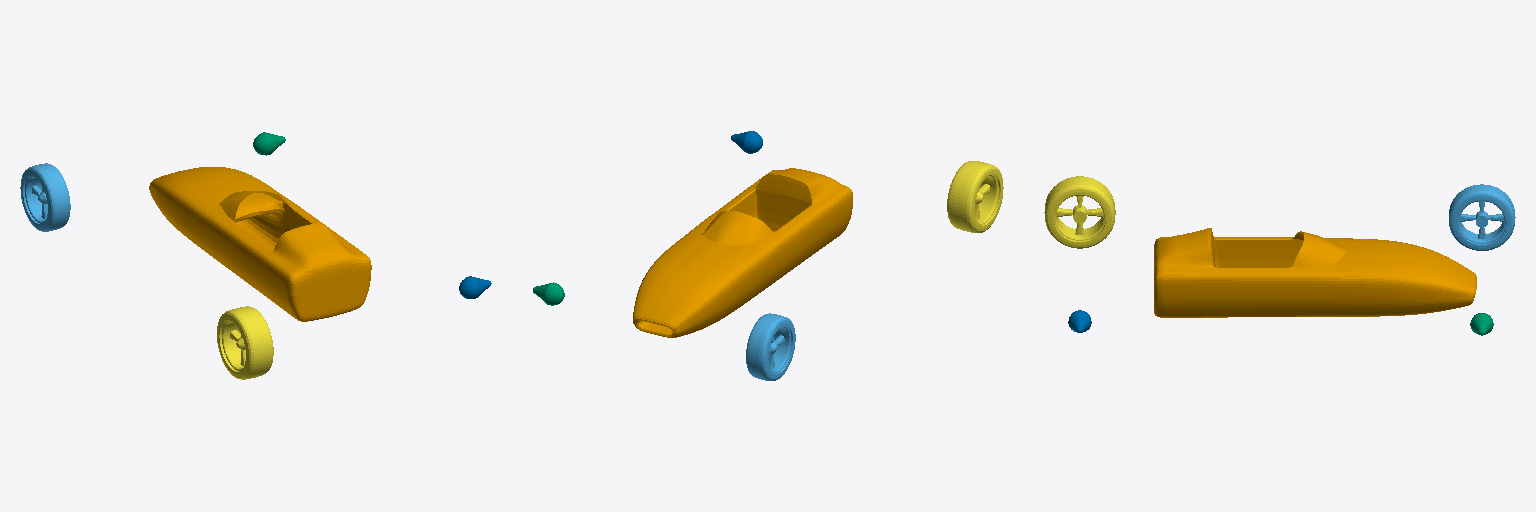
URDF robot description (formular_car):
<?xml version="1.0" encoding="UTF-8"?>
<robot name="formular_car">
    <!--* Body Link  -->
    <link name="body">
        <inertial>
            <mass value="600.0"/>
            <inertia ixx="1.0" ixy="0.0" ixz="0.0" iyy="1.0" iyz="0.0" izz="1.0"/>
        </inertial>
        <visual>
            <geometry>
                <mesh filename="body.stl" scale="1.0"/>
            </geometry>
        </visual>
        <collision>
            <geometry>
                <mesh filename="body.stl" scale="1.0"/>
            </geometry>
        </collision>
    </link>

    <!--* Supension Link -->
    <link name="susp_fl">
        <inertial>
            <mass value="1e-5"/>
            <inertia ixx="1e-6" ixy="0.0" ixz="0.0" iyy="1e-6" iyz="0.0" izz="1e-6"/>
        </inertial>
    </link>

    <link name="susp_fr">
        <inertial>
            <mass value="1e-5"/>
            <inertia ixx="1e-6" ixy="0.0" ixz="0.0" iyy="1e-6" iyz="0.0" izz="1e-6"/>
        </inertial>
    </link>

    <link name="susp_rl">
        <inertial>
            <mass value="1e-5"/>
            <inertia ixx="1e-6" ixy="0.0" ixz="0.0" iyy="1e-6" iyz="0.0" izz="1e-6"/>
        </inertial>
    </link>

    <link name="susp_rr">
        <inertial>
            <mass value="1e-5"/>
            <inertia ixx="1e-6" ixy="0.0" ixz="0.0" iyy="1e-6" iyz="0.0" izz="1e-6"/>
        </inertial>
    </link>

    <!--* Steering link -->
    <link name="steering_fl">
        <inertial>
            <mass value="1e-5"/>
            <inertia ixx="1e-6" ixy="0.0" ixz="0.0" iyy="1e-6" iyz="0.0" izz="1e-6"/>
        </inertial>
    </link>

    <link name="steering_fr">
        <inertial>
            <mass value="1e-5"/>
            <inertia ixx="1e-6" ixy="0.0" ixz="0.0" iyy="1e-6" iyz="0.0" izz="1e-6"/>
        </inertial>
    </link>

    <link name="steering_rl">
        <inertial>
            <mass value="1e-5"/>
            <inertia ixx="1e-6" ixy="0.0" ixz="0.0" iyy="1e-6" iyz="0.0" izz="1e-6"/>
        </inertial>
    </link>

    <link name="steering_rr">
        <inertial>
            <mass value="1e-5"/>
            <inertia ixx="1e-6" ixy="0.0" ixz="0.0" iyy="1e-6" iyz="0.0" izz="1e-6"/>
        </inertial>
    </link>
    
    <!--* Wheel Link -->
    <link name="wheel_fl">
        <inertial>
            <mass value="10.0"/>
            <inertia ixx="1.0" ixy="0.0" ixz="0.0" iyy="1.0" iyz="0.0" izz="1.0"/>
        </inertial>
        <visual>
            <geometry>
                <mesh filename="wheel_FL.stl" scale="1.0"/>
            </geometry>
        </visual>
        <collision>
            <geometry>
                <mesh filename="wheel_FL.stl" scale="1.0"/>
            </geometry>
        </collision>
    </link>

    <link name="wheel_fr">
        <inertial>
            <mass value="10.0"/>
            <inertia ixx="1.0" ixy="0.0" ixz="0.0" iyy="1.0" iyz="0.0" izz="1.0"/>
        </inertial>
        <visual>
            <geometry>
                <mesh filename="wheel_FR.stl" scale="1.0"/>
            </geometry>
        </visual>
        <collision>
            <geometry>
                <mesh filename="wheel_FR.stl" scale="1.0"/>
            </geometry>
        </collision>
    </link>

    <link name="wheel_rl">
        <inertial>
            <mass value="10.0"/>
            <inertia ixx="1.0" ixy="0.0" ixz="0.0" iyy="1.0" iyz="0.0" izz="1.0"/>
        </inertial>
        <visual>
            <geometry>
                <mesh filename="wheel_RL.stl" scale="1.0"/>
            </geometry>
        </visual>
        <collision>
            <geometry>
                <mesh filename="wheel_RL.stl" scale="1.0"/>
            </geometry>
        </collision>
    </link>

    <link name="wheel_rr">
        <inertial>
            <mass value="10.0"/>
            <inertia ixx="1.0" ixy="0.0" ixz="0.0" iyy="1.0" iyz="0.0" izz="1.0"/>
        </inertial>
        <visual>
            <geometry>
                <mesh filename="wheel_RR.stl" scale="1.0"/>
            </geometry>
        </visual>
        <collision>
            <geometry>
                <mesh filename="wheel_RR.stl" scale="1.0"/>
            </geometry>
        </collision>
    </link>


    <!-- ======================== -->
    <!--     FRONT LEFT WHEEL     -->
    <!-- ======================== -->
    <!--* Wheel mount  -->
    <joint name="susp_joint_fl" type="prismatic">
        <origin xyz="-1.0 1.4 0.05" rpy="0.0 0.0 0.0"/>
        <parent link="body"/>
        <child link="susp_fl"/>
        <axis xyz="0.0 0.0 1.0"/>
        <limit lower="-0.1" upper="0.01" effort="500" velocity="1.0"/>
    </joint>

    <!--* Steering Joint -->
    <joint name="steer_joint_fl" type="revolute">
        <parent link="susp_fl"/>
        <child link="steering_fl"/>
        <axis xyz="0.0 0.0 1.0"/>
        <limit lower="-0.524" upper="0.524" effort="80" velocity="100"/>
    </joint>

    <!--* Wheel joint -->
    <joint name="wheel_joint_fl" type="continuous">
        <parent link="steering_fl"/>
        <child link="wheel_fl"/>
        <axis xyz="1.0 0.0 0.0"/>
    </joint>

    <!-- ========================= -->
    <!--     FRONT RIGHT WHEEL     -->
    <!-- ========================= -->
    <!--* Wheel mount  -->
    <joint name="susp_joint_fr" type="prismatic">
        <origin xyz="1.0 1.4 0.05" rpy="0.0 0.0 0.0"/>
        <parent link="body"/>
        <child link="susp_fr"/>
        <axis xyz="0.0 0.0 1.0"/>
        <limit lower="-0.1" upper="0.01" effort="500" velocity="1.0"/>
    </joint>

    <!--* Steering Joint -->
    <joint name="steer_joint_fr" type="revolute">
        <parent link="susp_fr"/>
        <child link="steering_fr"/>
        <axis xyz="0.0 0.0 1.0"/>
        <limit lower="-0.524" upper="0.524" effort="80" velocity="100"/>
    </joint>

    <!--* Wheel joint -->
    <joint name="wheel_joint_fr" type="continuous">
        <parent link="steering_fr"/>
        <child link="wheel_fr"/>
        <axis xyz="1.0 0.0 0.0"/>
    </joint>

    <!-- ======================= -->
    <!--     RESR LEFT WHEEL     -->
    <!-- ======================= -->
    <!--* Wheel mount  -->
    <joint name="susp_joint_rl" type="prismatic">
        <origin xyz="-1.05 -1.5 0.08" rpy="0.0 0.0 0.0"/>
        <parent link="body"/>
        <child link="susp_rl"/>
        <axis xyz="0.0 0.0 1.0"/>
        <limit lower="-0.1" upper="0.01" effort="500" velocity="1.0"/>
    </joint>

    <!--* Steering Joint -->
    <joint name="steer_joint_rl" type="fixed">
        <parent link="susp_rl"/>
        <child link="steering_rl"/>
    </joint>

    <!--* Wheel joint -->
    <joint name="wheel_joint_rl" type="continuous">
        <parent link="steering_rl"/>
        <child link="wheel_rl"/>
        <axis xyz="1.0 0.0 0.0"/>
    </joint>

    <!-- ======================== -->
    <!--     REAR RIGHT WHEEL     -->
    <!-- ======================== -->
    <!--* Wheel mount  -->
    <joint name="susp_joint_rr" type="prismatic">
        <origin xyz="1.05 -1.5 0.08" rpy="0.0 0.0 0.0"/>
        <parent link="body"/>
        <child link="susp_rr"/>
        <axis xyz="0.0 0.0 1.0"/>
        <limit lower="-0.1" upper="0.01" effort="500" velocity="1.0"/>
    </joint>

    <!--* Steering Joint -->
    <joint name="steer_joint_rr" type="fixed">
        <parent link="susp_rr"/>
        <child link="steering_rr"/>
    </joint>

    <!--* Wheel joint -->
    <joint name="wheel_joint_rr" type="continuous">
        <parent link="steering_rr"/>
        <child link="wheel_rr"/>
        <axis xyz="1.0 0.0 0.0"/>
    </joint>
</robot>

--- Facts derived from the render (not from the file) ---
Views: 3 orthographic renders of the robot side by side, from view 1: azimuth 30°, elevation 25°; view 2: azimuth 150°, elevation 25°; view 3: azimuth 270°, elevation 25°.
Model formular_car with 13 links and 12 joints (2 revolute, 4 continuous, 4 prismatic, 2 fixed), rooted at body, posed every joint at zero.
Visible links, largest first — view 1: body, wheel_rl, wheel_fl; view 2: body, wheel_rl, wheel_fl; view 3: body, wheel_rl, wheel_fl.
Link boxes in pixels (x1,y1,x2,y2): body: (149, 167, 371, 321); wheel_rl: (217, 306, 273, 379); wheel_fl: (20, 163, 70, 231); body: (633, 168, 852, 337); wheel_rl: (947, 161, 1003, 232); wheel_fl: (746, 313, 795, 380); body: (1154, 228, 1476, 317); wheel_rl: (1044, 176, 1115, 248); wheel_fl: (1449, 184, 1515, 250).
Size in the robot's own frame: 4.27 by 6.8 by 1.15 metres.
5 mesh visuals loaded from 5 distinct referenced files (5 binary STL).